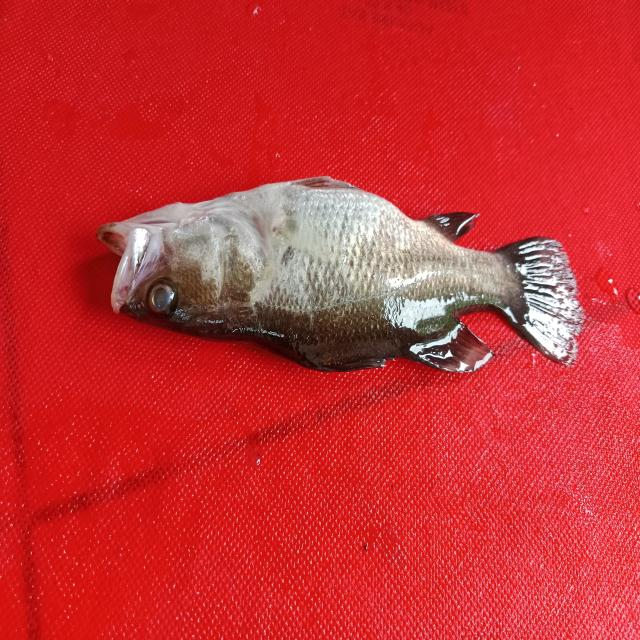ikan: (86, 150, 594, 398)
